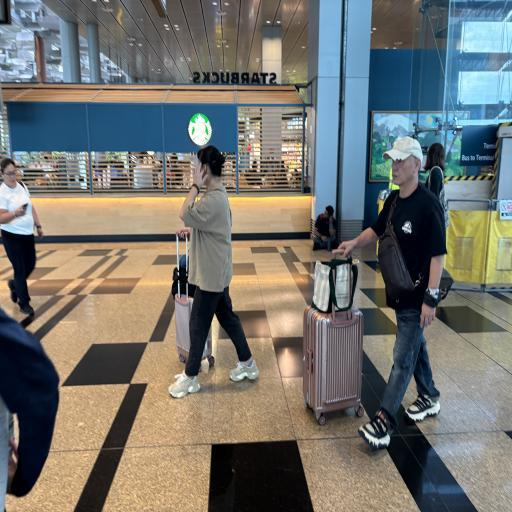person_with_luggage_left: (294, 110, 445, 460), (168, 139, 258, 403)
